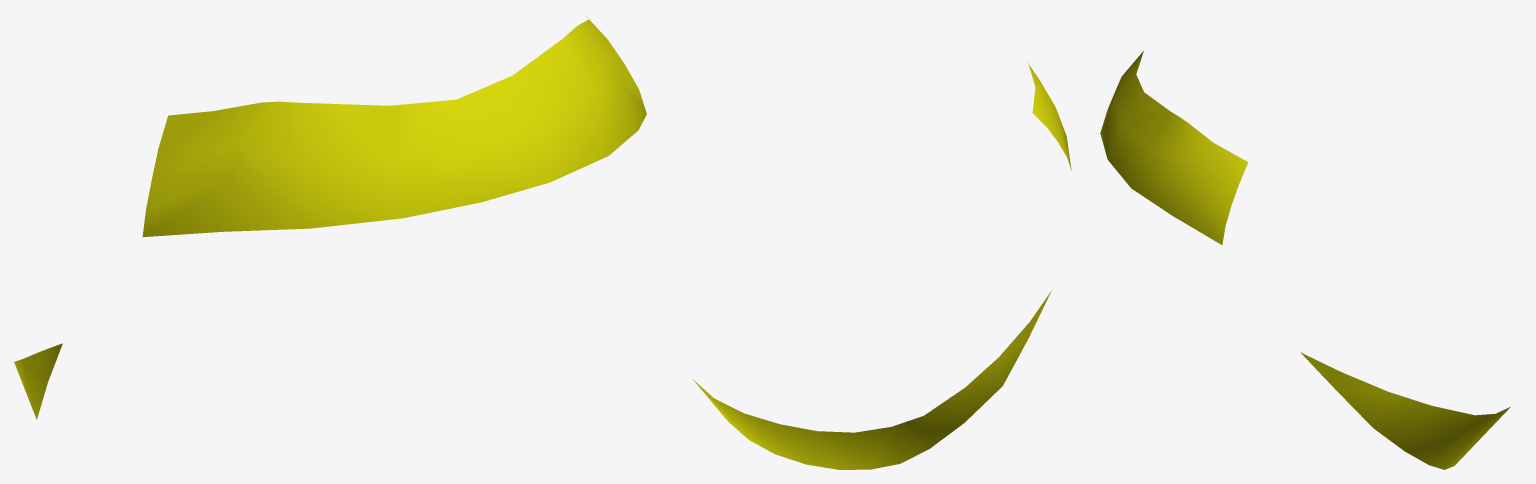
The model's file is Forehead2_23.glb.
3 views of the same model, side by side, from view 1: azimuth 30°, elevation 25°; view 2: azimuth 150°, elevation 25°; view 3: azimuth 270°, elevation 25° (orthographic). The views are drawn at different scales.
Size of the model in its own units: 52.6 by 48.64 by 49.6.
